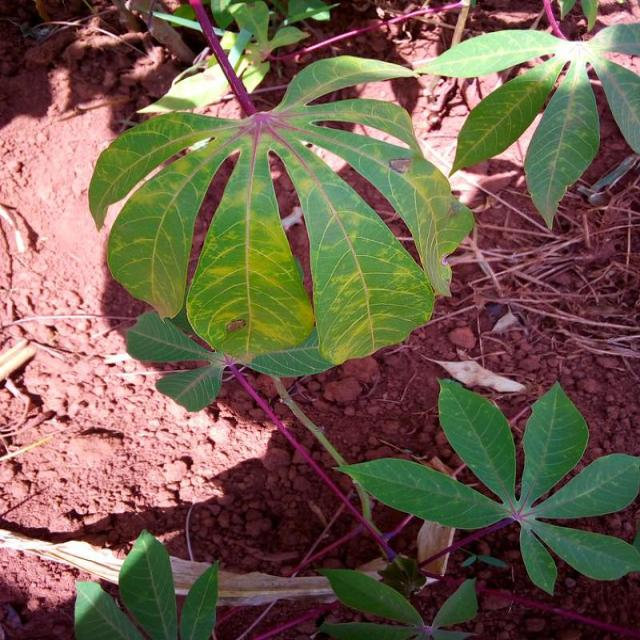cassava leaf: (89, 34, 473, 381)
